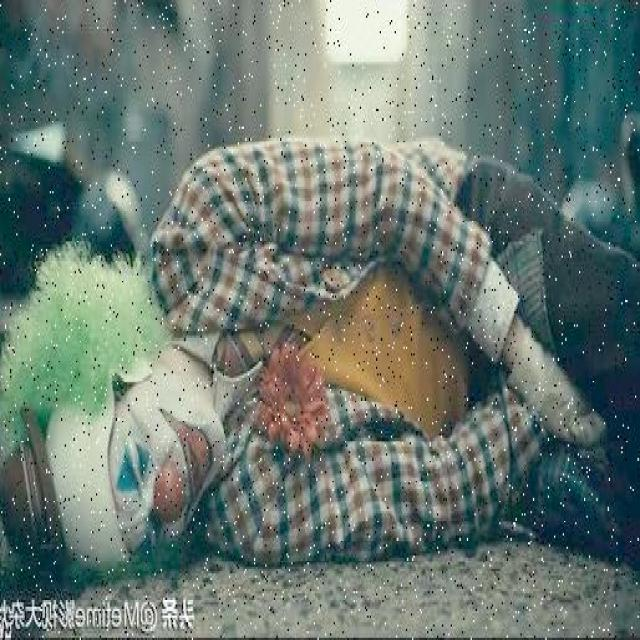fall: (6, 133, 608, 591)
